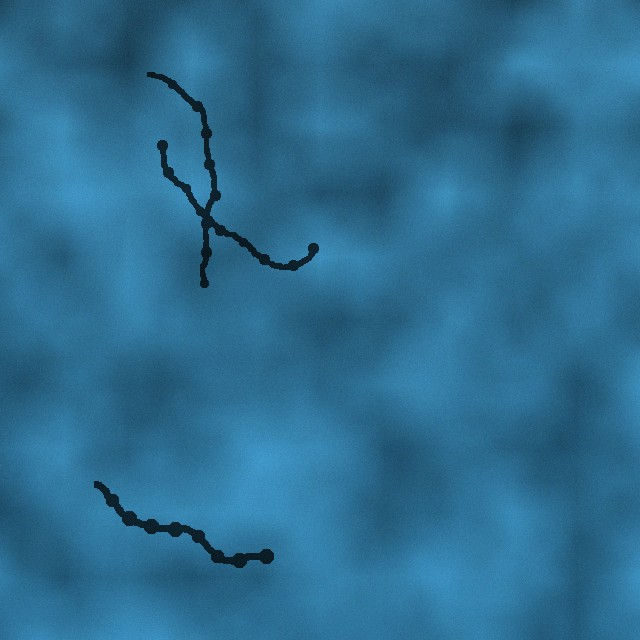crack: (157, 140, 318, 272), (143, 69, 220, 288), (88, 477, 273, 568)
